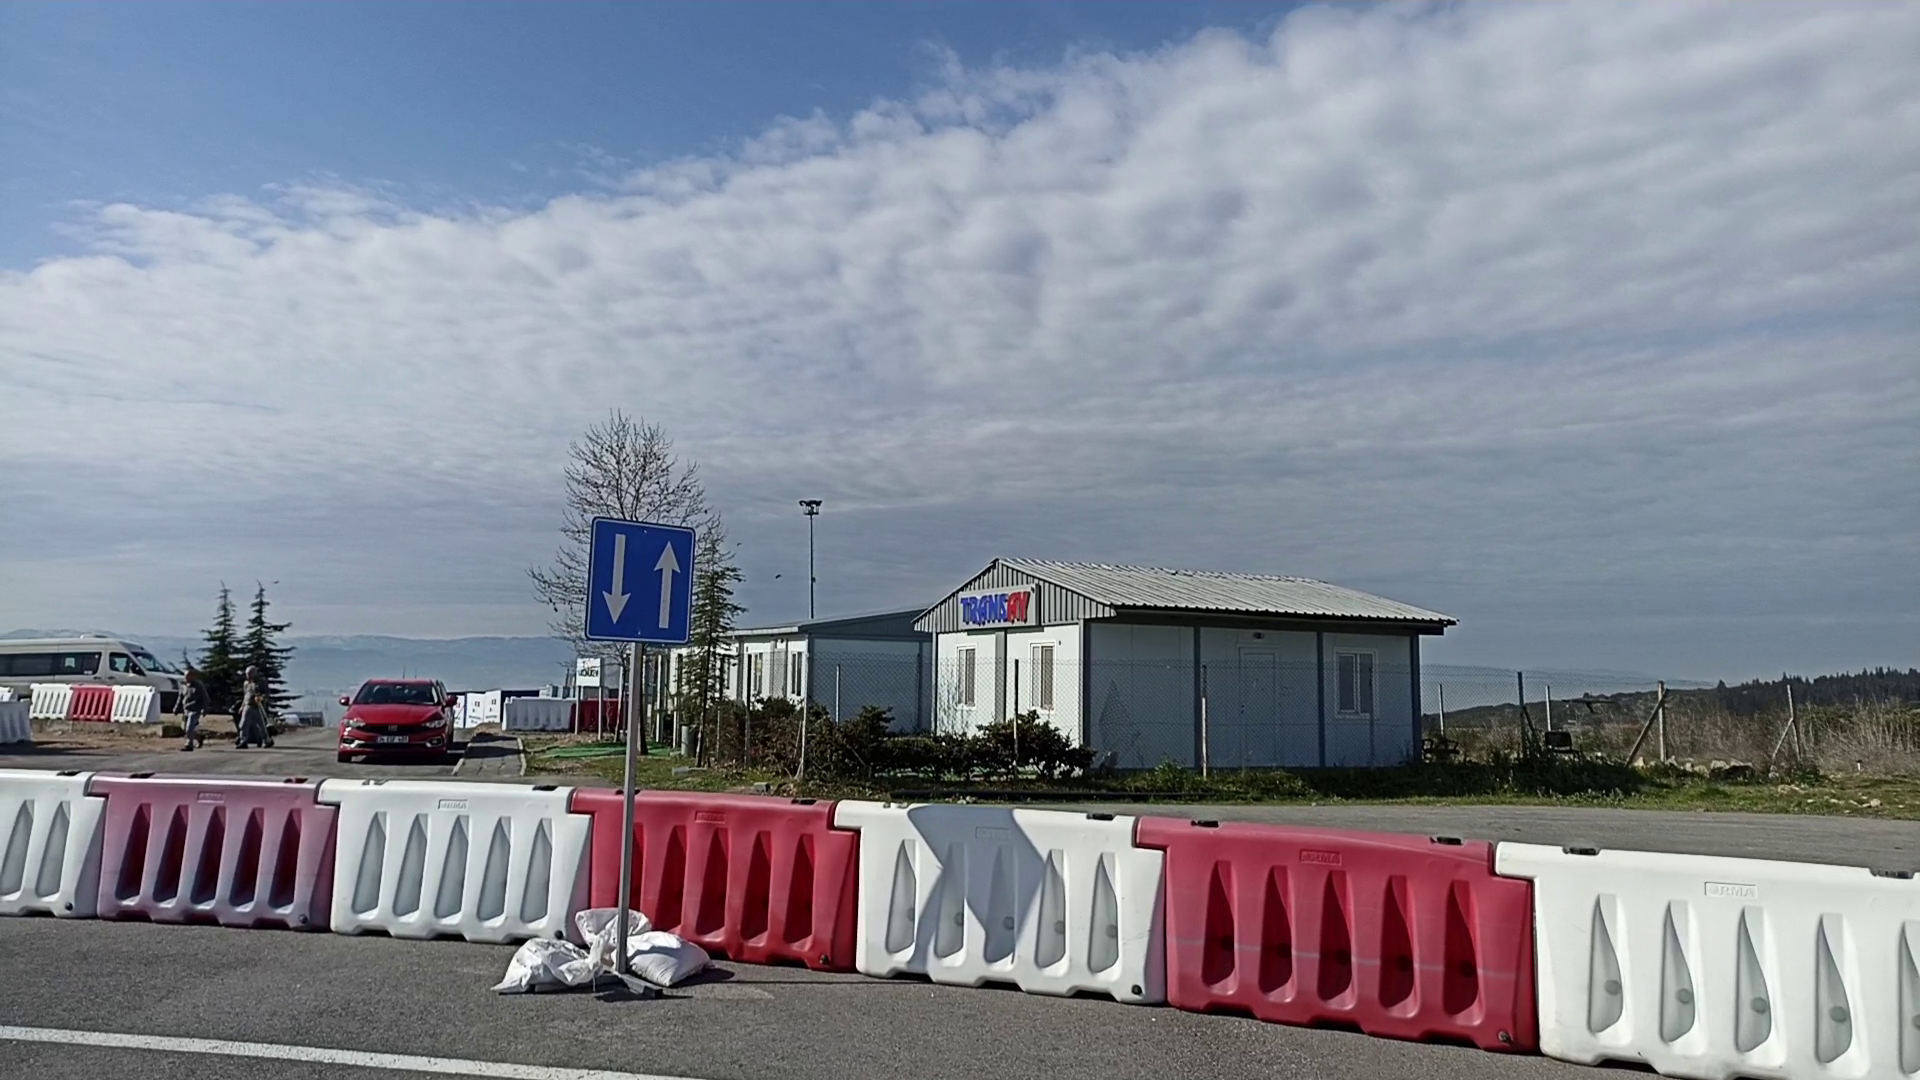oneway: (582, 512, 699, 645)
